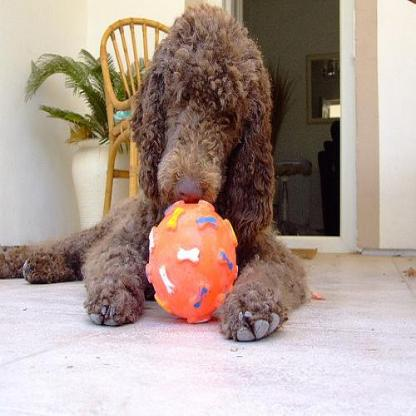standard_poodle: (2, 0, 310, 342)
